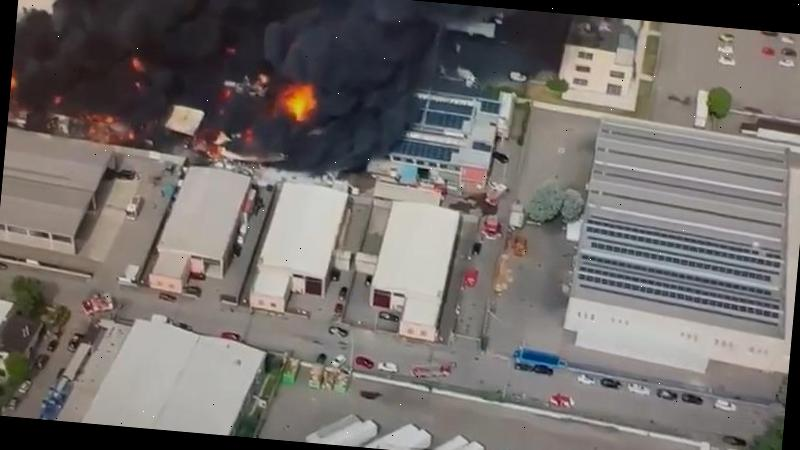fire: (200, 54, 314, 172), (8, 55, 57, 118), (115, 38, 164, 100)
smoke: (55, 0, 547, 72)
